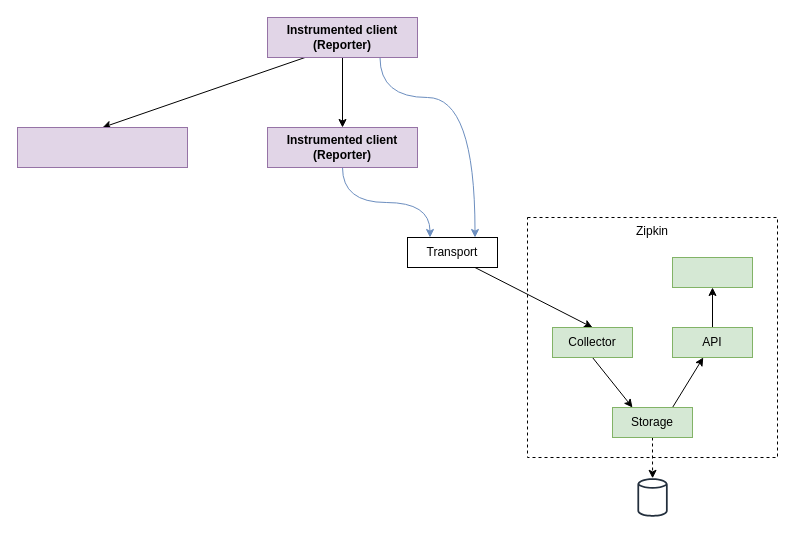
This 795x556 diagram has some shape labels left out. Each missing label, with the box of its shape:
Database: (637, 477, 667, 517)
Non-instrumented server: (16, 126, 188, 168)
UI: (672, 256, 752, 288)
